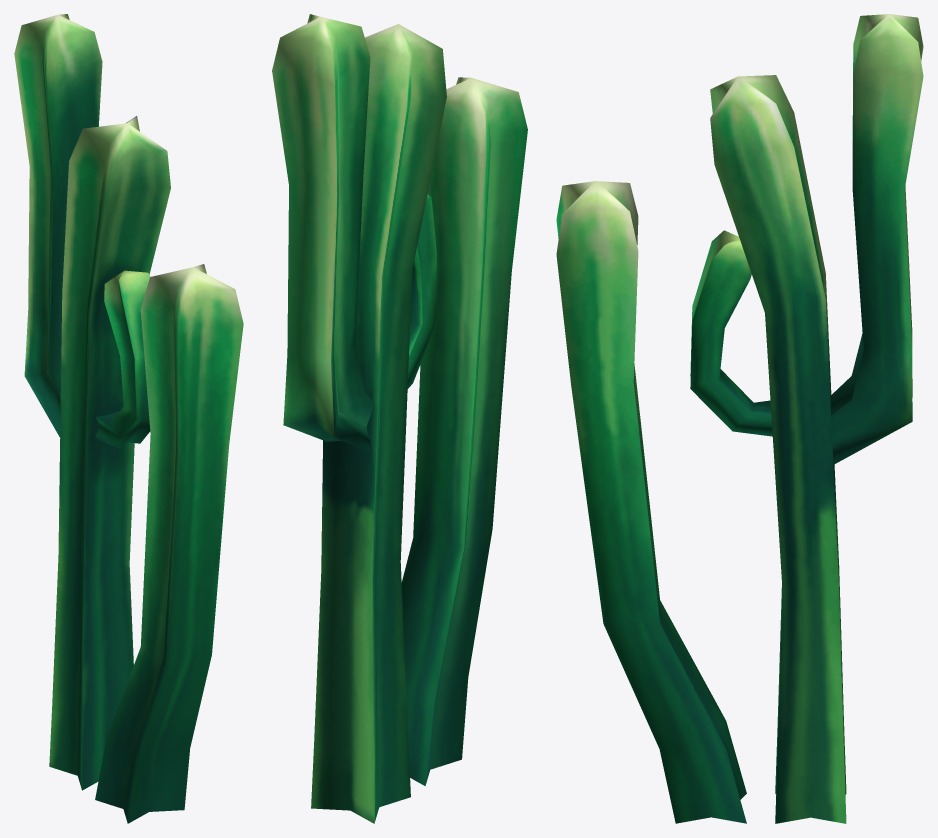
File: cj_xianrenzhang2.fbx
3 views of the same model, side by side, from view 1: azimuth 30°, elevation 25°; view 2: azimuth 150°, elevation 25°; view 3: azimuth 270°, elevation 25° (orthographic). The views are drawn at different scales.
Parts seen in each view (by area): view 1: cj_xianrenzhang4, cj_xianrenzhang5; view 2: cj_xianrenzhang4, cj_xianrenzhang5; view 3: cj_xianrenzhang4, cj_xianrenzhang5.
Boxes of the visible parts, <box> form: cj_xianrenzhang4: <box>14,14,170,790</box>; cj_xianrenzhang5: <box>95,264,243,823</box>; cj_xianrenzhang4: <box>272,14,446,823</box>; cj_xianrenzhang5: <box>401,77,527,786</box>; cj_xianrenzhang4: <box>690,14,923,823</box>; cj_xianrenzhang5: <box>556,181,746,823</box>.
Size of the model in its own units: 143 by 1524 by 638.
